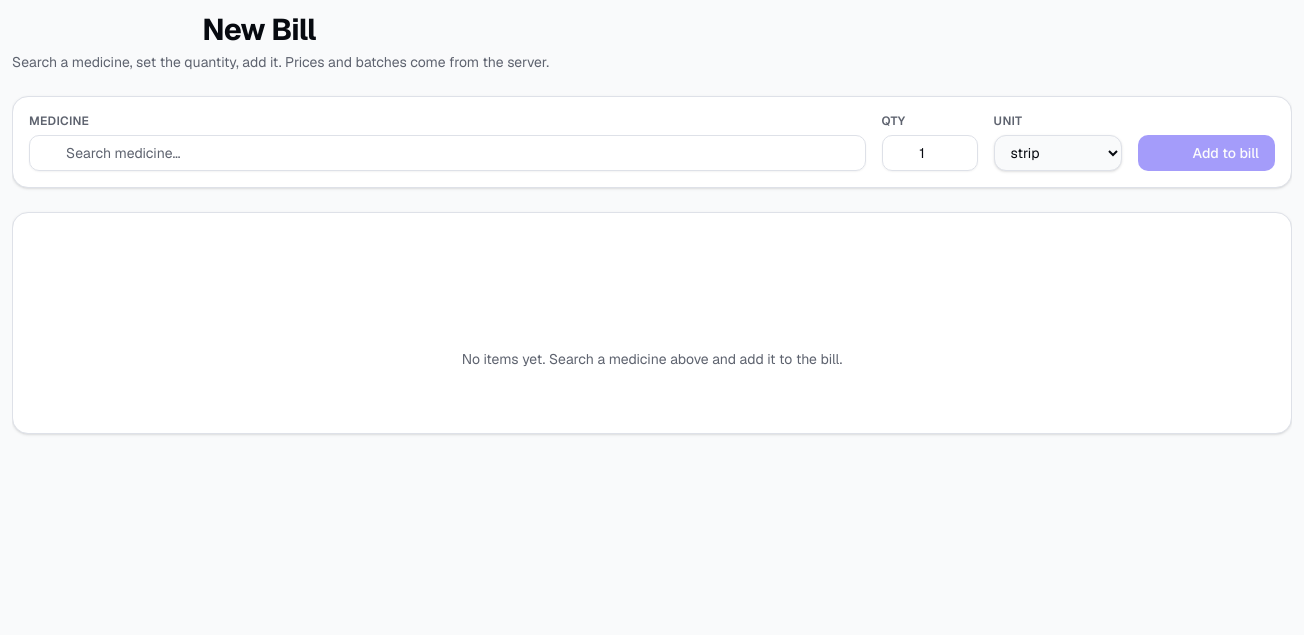
it: days supply field › is empty when the medicine has no default
Type "Crocin" into the dropdown with placeholder "Search medicine…" at (447, 153), box x1=29 y1=135 x2=866 y2=171
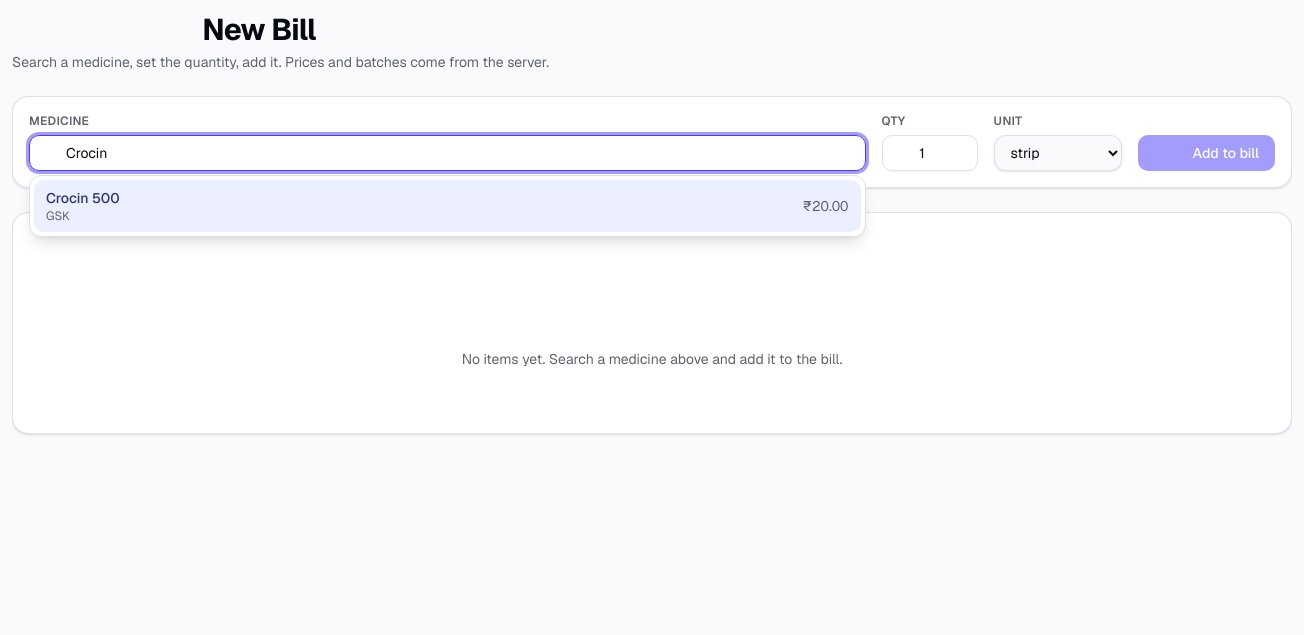
Click the text "Crocin 500" at (83, 198), box x1=46 y1=189 x2=120 y2=207
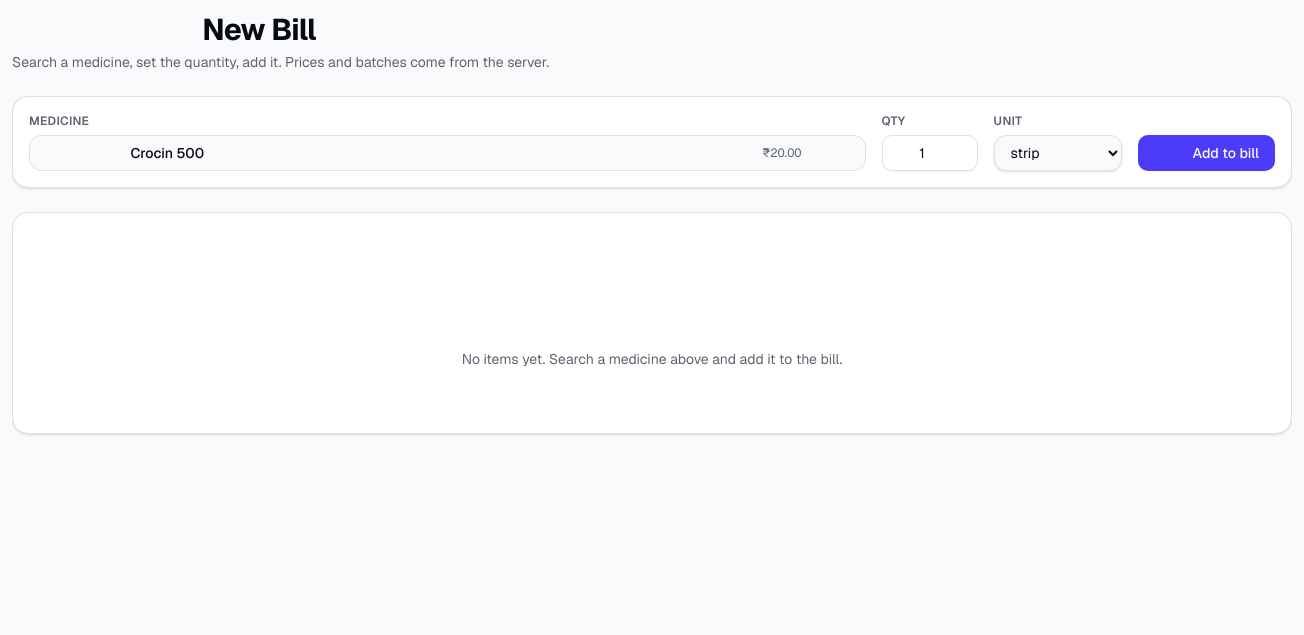
Click the button "Add to bill" at (1206, 153), box x1=1138 y1=135 x2=1275 y2=171
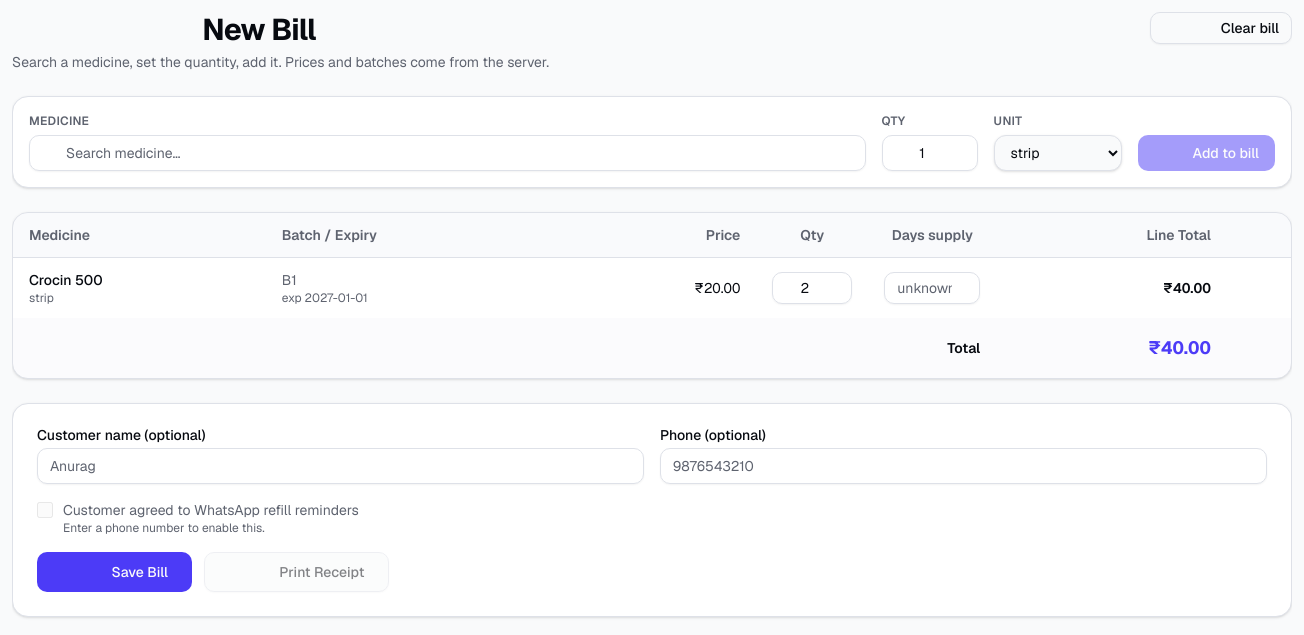
Now the number field named "Days supply for Crocin 500" is not empty, box x1=884 y1=272 x2=980 y2=304
